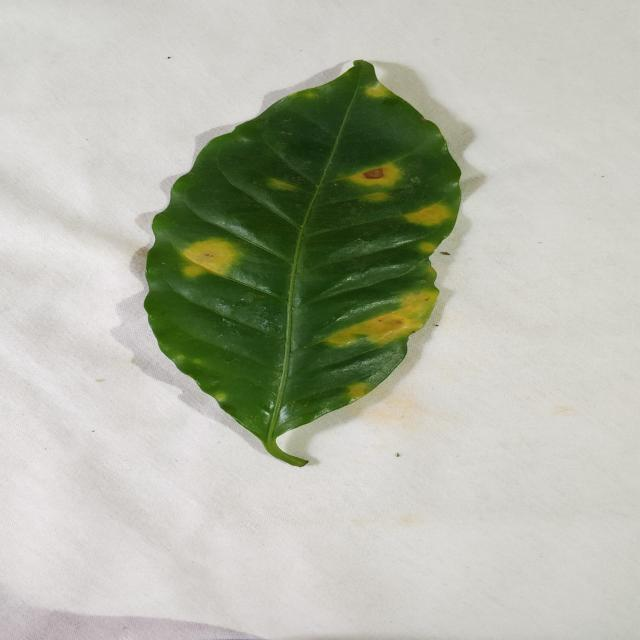Enfermedad-Roya: (142, 60, 462, 466)
